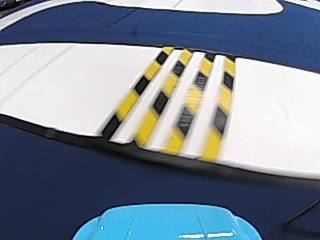bump: (109, 46, 234, 149)
